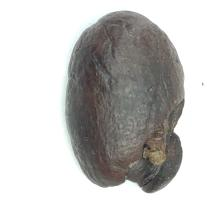NG: (94, 90, 184, 192)
